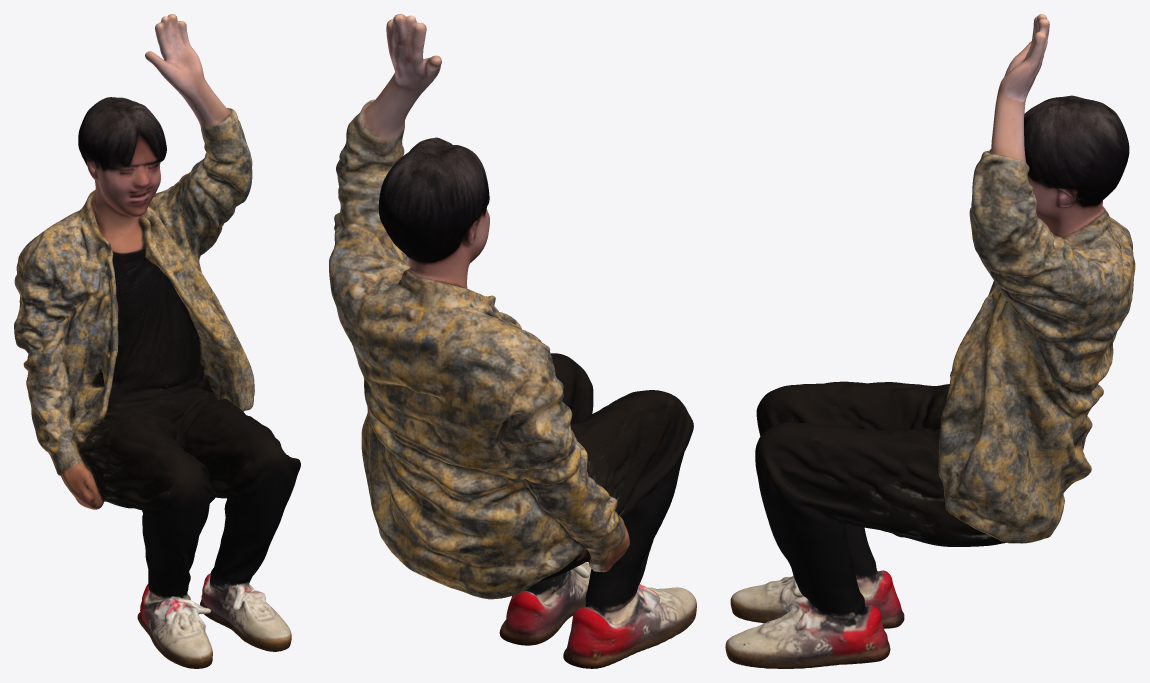
File: owada_left_hand_raising.glb
3 views of the same model, side by side, from view 1: azimuth 30°, elevation 25°; view 2: azimuth 150°, elevation 25°; view 3: azimuth 270°, elevation 25° (orthographic). The views are drawn at different scales.
Parts seen in each view (by area): view 1: world; view 2: world; view 3: world.
Part boxes in pixels (x1,y1,x2,y2): world: [14, 14, 300, 668]; world: [329, 14, 696, 668]; world: [725, 14, 1135, 668].
Size of the model in its own units: 0.4109 by 1 by 0.5707.
Materials: 1 (1 with a texture image).
